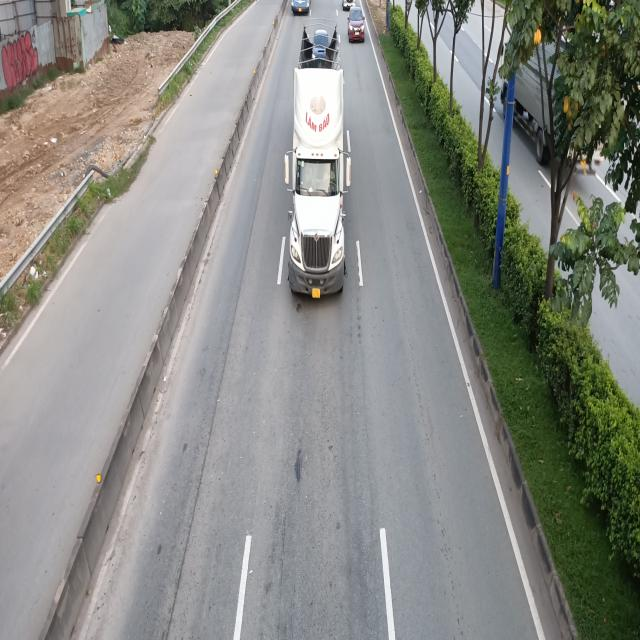car: (348, 6, 366, 42)
container: (283, 28, 350, 299)
